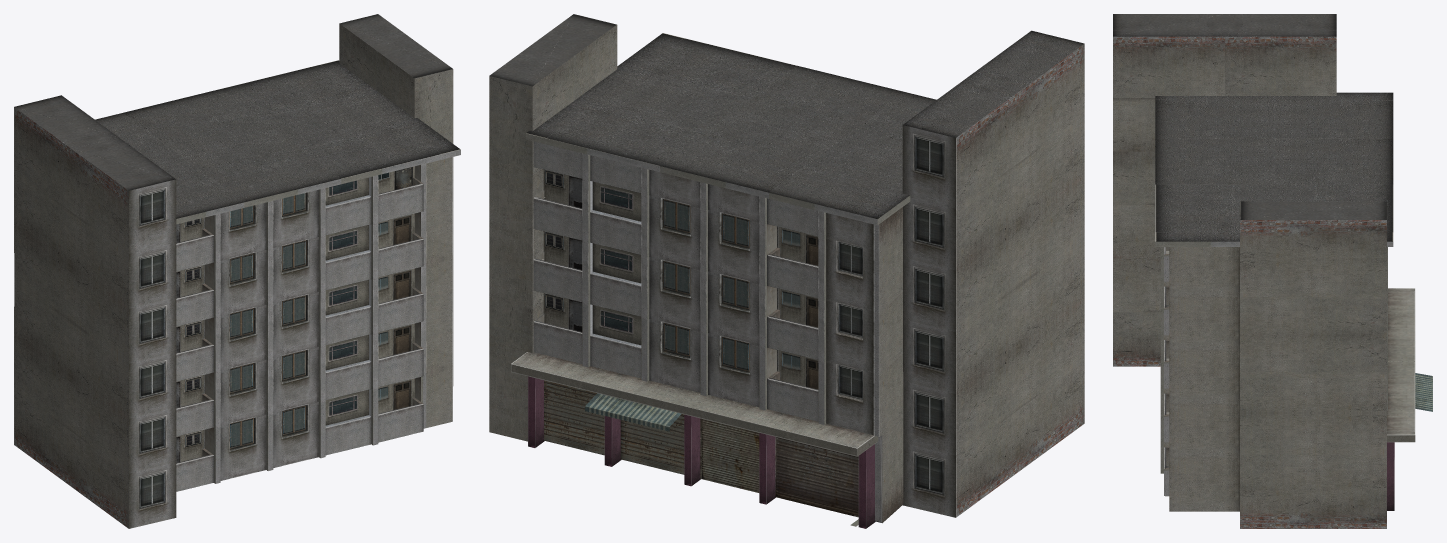
The model's file is buildings_06_02.FBX.
3 views of the same model, side by side, from view 1: azimuth 30°, elevation 25°; view 2: azimuth 150°, elevation 25°; view 3: azimuth 270°, elevation 25° (orthographic). The views are drawn at different scales.
Visible parts, largest first — view 1: Box002; view 2: Box002; view 3: Box002.
Boxes of the visible parts, x1,y1,x2,y2 form: Box002: (14,14,460,528); Box002: (489,14,1084,528); Box002: (1113,14,1432,528).
Size of the model in its own units: 2226 by 1624 by 1848.
Materials: 1 (1 with a texture image).
